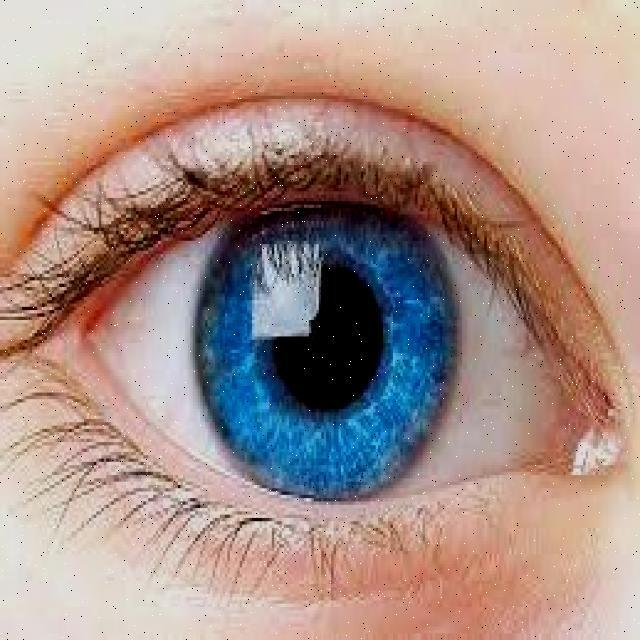Normal: (0, 82, 638, 604)
